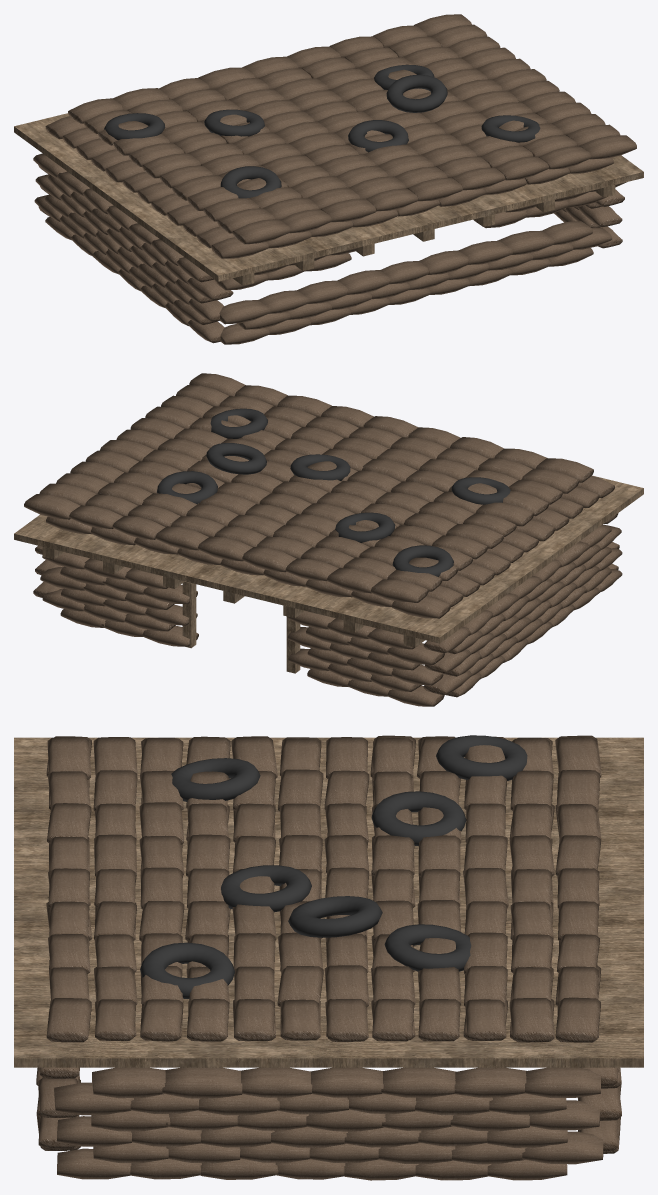
Rendered from sandbag_bunker.glb.
3 views of the same model, one above another, from view 1: azimuth 30°, elevation 25°; view 2: azimuth 150°, elevation 25°; view 3: azimuth 270°, elevation 25° (orthographic). The views are drawn at different scales.
Parts seen in each view (by area): view 1: roofbags, front_lo, deck, left, Torus.006, right, front_hi_l, front_hi_r, Torus.002, Torus, Torus.001, Torus.005 (+2 smaller); view 2: roofbags, deck, left, back_l, back_r, Torus.006, Torus.005, Torus.003, Torus.001, Torus.004, Torus.002, Torus (+3 smaller); view 3: roofbags, right, deck, Torus.006, Torus.001, Torus.004, Torus.003, Torus.002, Torus.005, Torus, back_r, front_lo.
Part boxes in pixels (box(x1,y1,x2,y2)): roofbags: box(45, 14, 636, 258); front_lo: box(219, 221, 612, 344); deck: box(14, 113, 643, 281); left: box(33, 153, 233, 343); Torus.006: box(386, 74, 447, 112); right: box(554, 189, 624, 248); front_hi_l: box(214, 248, 356, 290); front_hi_r: box(474, 182, 626, 228); Torus.002: box(348, 120, 408, 152); Torus: box(220, 166, 281, 198); Torus.001: box(204, 109, 264, 136); Torus.005: box(104, 113, 165, 140); roofbags: box(24, 373, 614, 618); deck: box(14, 475, 643, 643); left: box(423, 524, 622, 697); back_l: box(287, 611, 444, 706); back_r: box(40, 552, 198, 646); Torus.006: box(206, 443, 266, 474); Torus.005: box(392, 545, 453, 576); Torus.003: box(157, 471, 217, 504); Torus.001: box(335, 512, 395, 542); Torus.004: box(210, 408, 267, 438); Torus.002: box(290, 454, 350, 480); Torus: box(451, 477, 510, 504); roofbags: box(46, 735, 601, 1042); right: box(54, 1067, 603, 1180); deck: box(14, 737, 643, 1067); Torus.006: box(288, 896, 382, 937); Torus.001: box(371, 791, 466, 846); Torus.004: box(140, 942, 234, 998); Torus.003: box(384, 924, 471, 971); Torus.002: box(221, 865, 311, 912); Torus.005: box(436, 735, 527, 780); Torus: box(171, 758, 260, 801); back_r: box(578, 1067, 621, 1153); front_lo: box(36, 1067, 81, 1150).
Bounding box in the file's own units: 5.97 × 1.64 × 4.9.
Materials: 3 (2 with a texture image).
